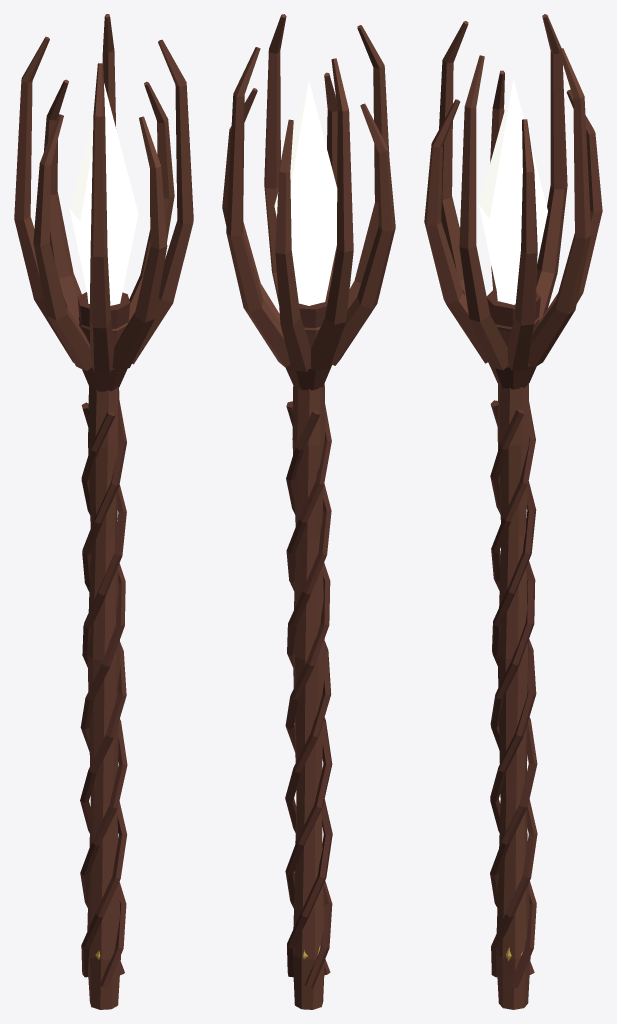
Rendered from staff_vinebasket.glb.
3 renders of one model, left to right at view 1: azimuth 30°, elevation 25°; view 2: azimuth 150°, elevation 25°; view 3: azimuth 270°, elevation 25°, orthographic.
Parts seen in each view (by area): view 1: Vb_Shaft, Vb_Crystal, Vb_Basket5, Vb_Basket7, Vb_Basket4, Vb_Basket6, Vb_Vine1, Vb_Vine2, Vb_Basket3, Vb_Vine0, Vb_Basket2, Vb_Basket0 (+2 smaller); view 2: Vb_Shaft, Vb_Crystal, Vb_Basket1, Vb_Basket3, Vb_Basket4, Vb_Basket2, Vb_Vine0, Vb_Vine1, Vb_Vine2, Vb_Basket7, Vb_Basket5, Vb_Neck (+2 smaller); view 3: Vb_Shaft, Vb_Crystal, Vb_Basket1, Vb_Basket7, Vb_Basket3, Vb_Basket0, Vb_Vine2, Vb_Vine0, Vb_Basket6, Vb_Vine1, Vb_Basket5, Vb_Basket2 (+2 smaller).
Boxes of the visible parts, bbox=[...] form: Vb_Shaft: bbox=[87, 386, 120, 1009]; Vb_Crystal: bbox=[69, 83, 138, 305]; Vb_Basket5: bbox=[89, 63, 114, 373]; Vb_Basket7: bbox=[132, 39, 193, 364]; Vb_Basket4: bbox=[33, 114, 92, 371]; Vb_Basket6: bbox=[112, 116, 167, 371]; Vb_Vine1: bbox=[80, 412, 127, 977]; Vb_Vine2: bbox=[80, 400, 126, 988]; Vb_Basket3: bbox=[14, 36, 73, 362]; Vb_Vine0: bbox=[80, 402, 127, 975]; Vb_Basket2: bbox=[44, 79, 81, 324]; Vb_Basket0: bbox=[128, 81, 174, 321]; Vb_Shaft: bbox=[292, 383, 325, 1009]; Vb_Crystal: bbox=[274, 81, 337, 305]; Vb_Basket1: bbox=[226, 47, 290, 367]; Vb_Basket3: bbox=[310, 58, 353, 371]; Vb_Basket4: bbox=[331, 103, 395, 365]; Vb_Basket2: bbox=[275, 119, 310, 371]; Vb_Vine0: bbox=[285, 410, 332, 977]; Vb_Vine1: bbox=[285, 404, 332, 988]; Vb_Vine2: bbox=[285, 401, 332, 975]; Vb_Basket7: bbox=[264, 14, 286, 303]; Vb_Basket5: bbox=[347, 25, 389, 309]; Vb_Neck: bbox=[285, 291, 331, 390]; Vb_Shaft: bbox=[496, 383, 530, 1009]; Vb_Crystal: bbox=[479, 79, 547, 304]; Vb_Basket1: bbox=[528, 48, 591, 367]; Vb_Basket7: bbox=[459, 55, 508, 370]; Vb_Basket3: bbox=[536, 14, 567, 320]; Vb_Basket0: bbox=[507, 119, 537, 370]; Vb_Vine2: bbox=[490, 409, 537, 977]; Vb_Vine0: bbox=[490, 402, 536, 988]; Vb_Basket6: bbox=[424, 99, 487, 363]; Vb_Vine1: bbox=[490, 400, 537, 974]; Vb_Basket5: bbox=[439, 21, 468, 296]; Vb_Basket2: bbox=[539, 89, 602, 323].
Size of the model in its own units: 0.3774 by 2.26 by 0.3774.
